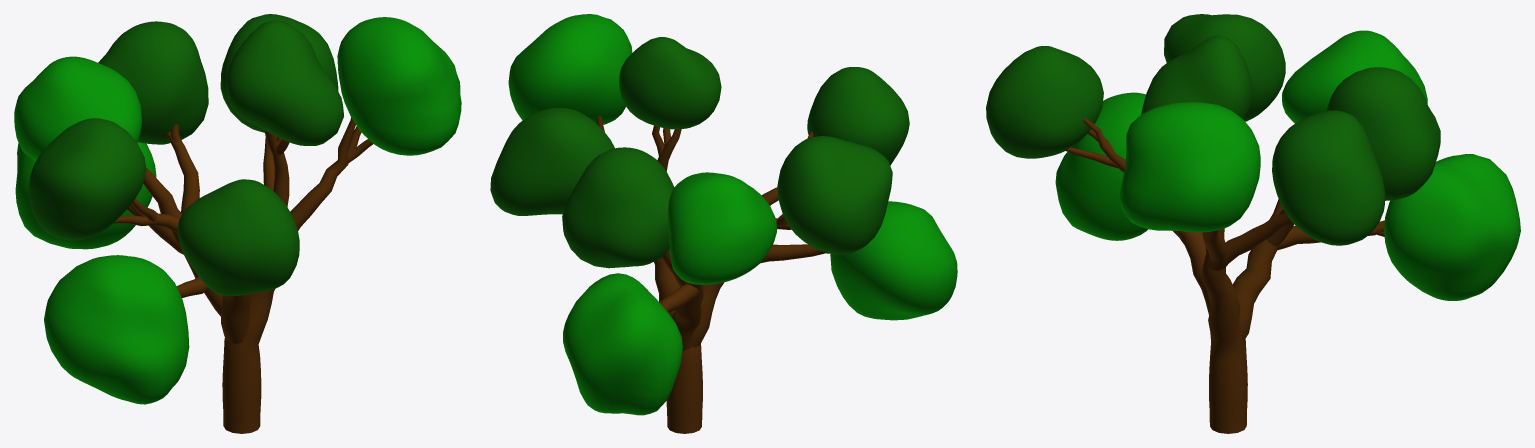
The model's file is tree 3.fbx.
The picture shows the model from 3 angles, left to right: view 1: azimuth 30°, elevation 25°; view 2: azimuth 150°, elevation 25°; view 3: azimuth 270°, elevation 25°; orthographic projection. The views are drawn at different scales.
Visible parts, largest first — view 1: Tree.001; view 2: Tree.001; view 3: Tree.001.
Part boxes in pixels (box(x1,y1,x2,y2)): Tree.001: box(14, 14, 461, 433); Tree.001: box(490, 14, 957, 433); Tree.001: box(986, 14, 1520, 433).
Bounding box in the file's own units: 640 × 568 × 685.
